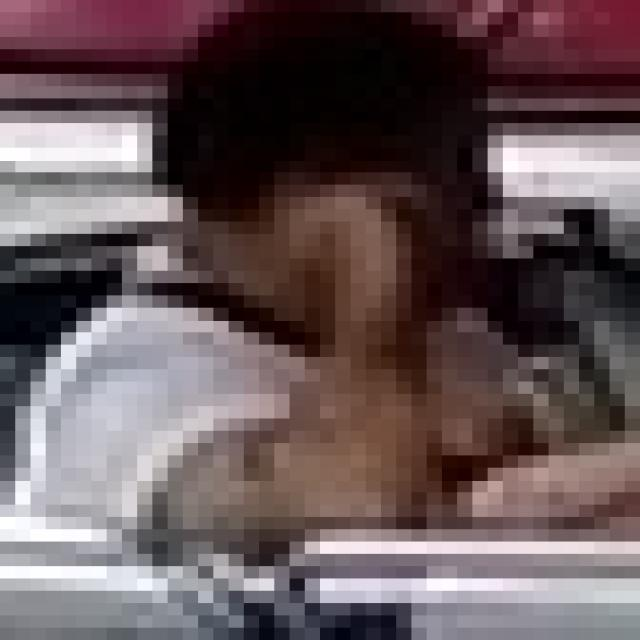door: (0, 0, 625, 628)
